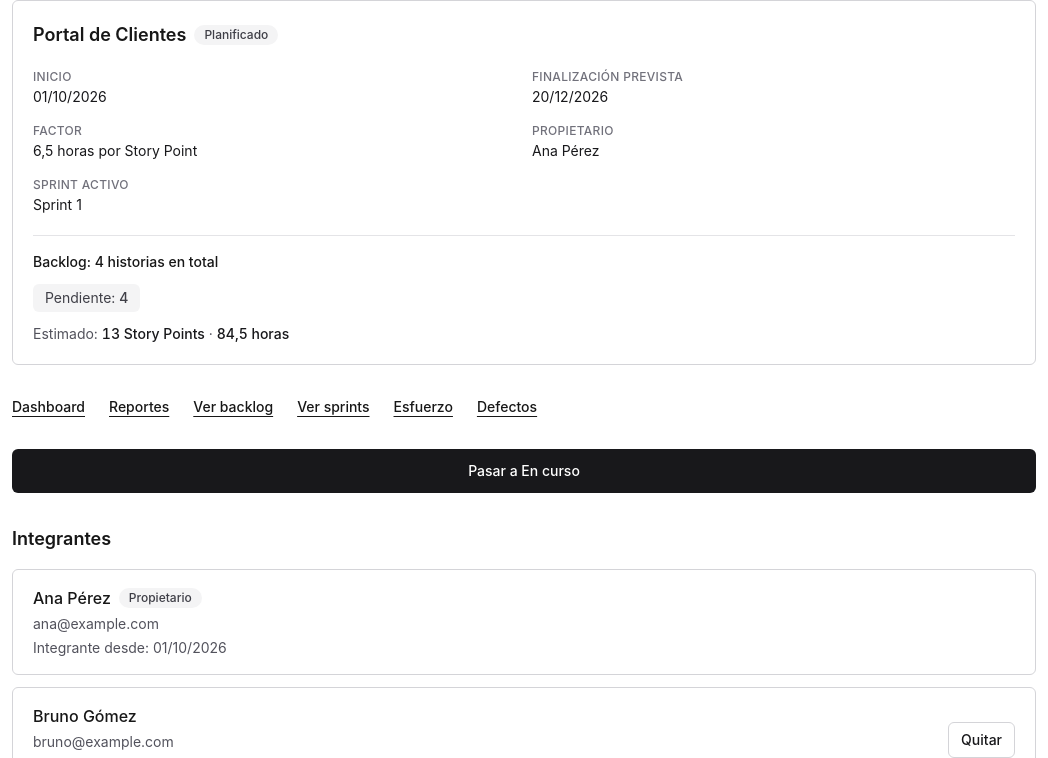
it: 002/US6 - Avanzar el estado del proyecto › Arranque sin condiciones
Click the button "Pasar a En curso" at (524, 471), box [12, 449, 1036, 493]
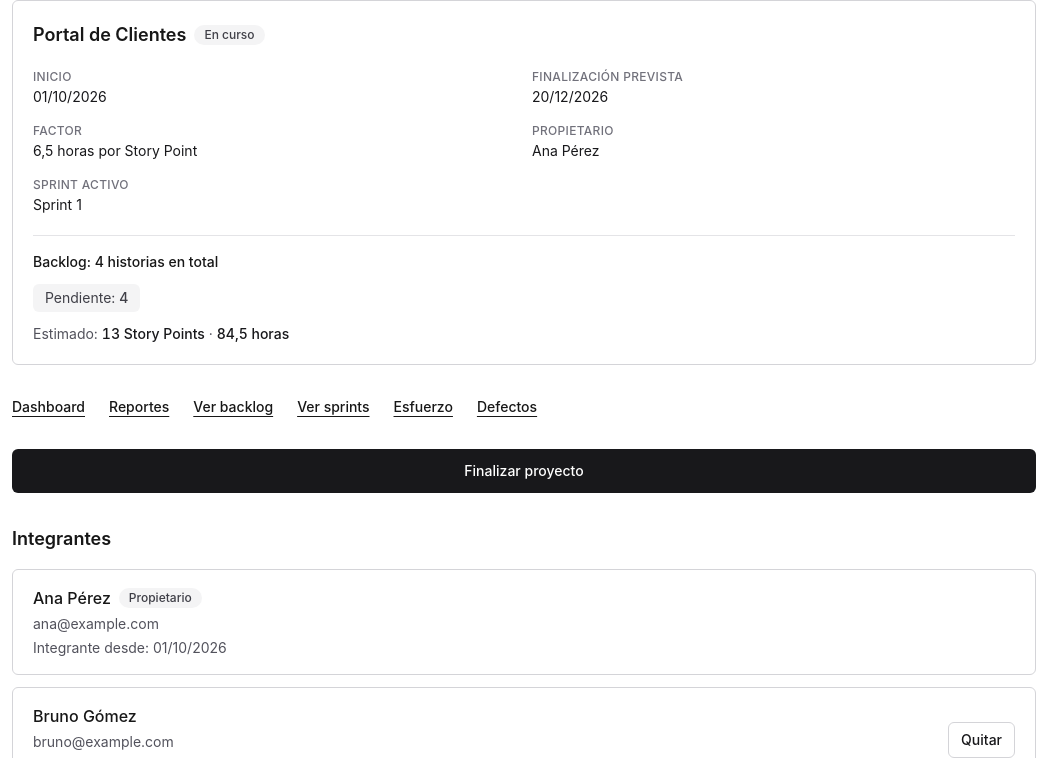
Now the button "Finalizar proyecto" is shown, box [12, 449, 1036, 493]
Now the text "En curso" is shown, box [194, 25, 265, 45]
